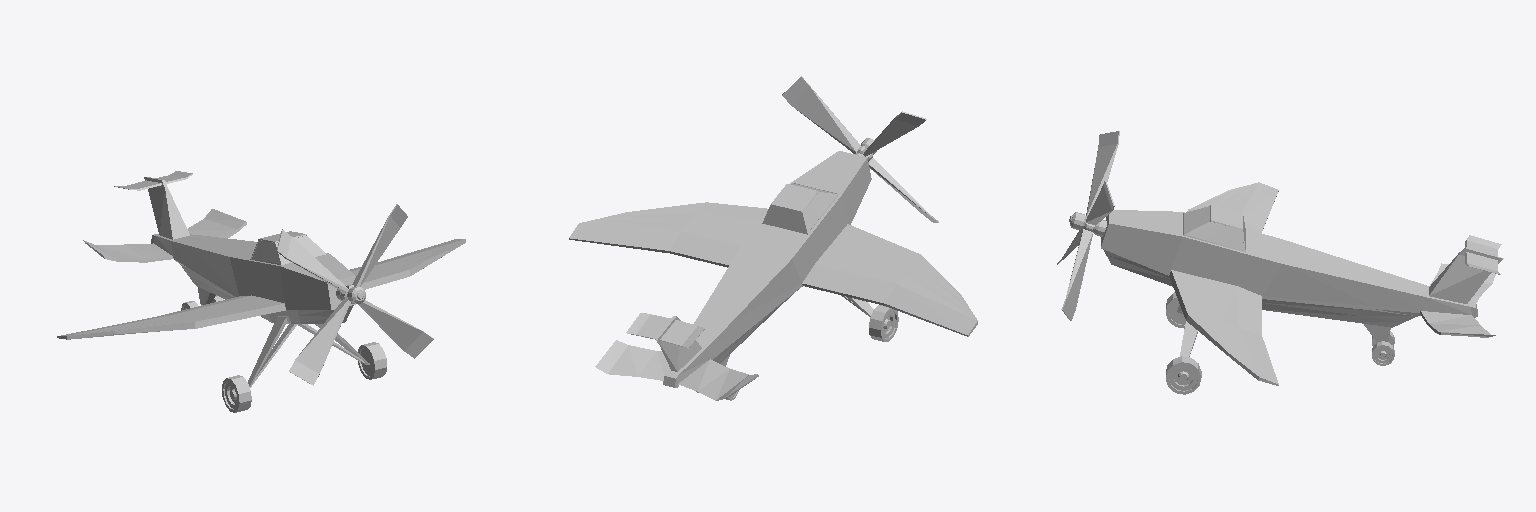
File: aviao.obj
3 renders of one model, left to right at view 1: azimuth 30°, elevation 25°; view 2: azimuth 150°, elevation 25°; view 3: azimuth 270°, elevation 25°, orthographic.
Visible parts, largest first — view 1: the_aviao; view 2: the_aviao; view 3: the_aviao.
Part boxes in pixels (x1,y1,x2,y2): the_aviao: (57,171,465,412); the_aviao: (569,76,977,400); the_aviao: (1057,131,1503,394).
Bounding box in the file's own units: 8.47 × 4.16 × 8.22.